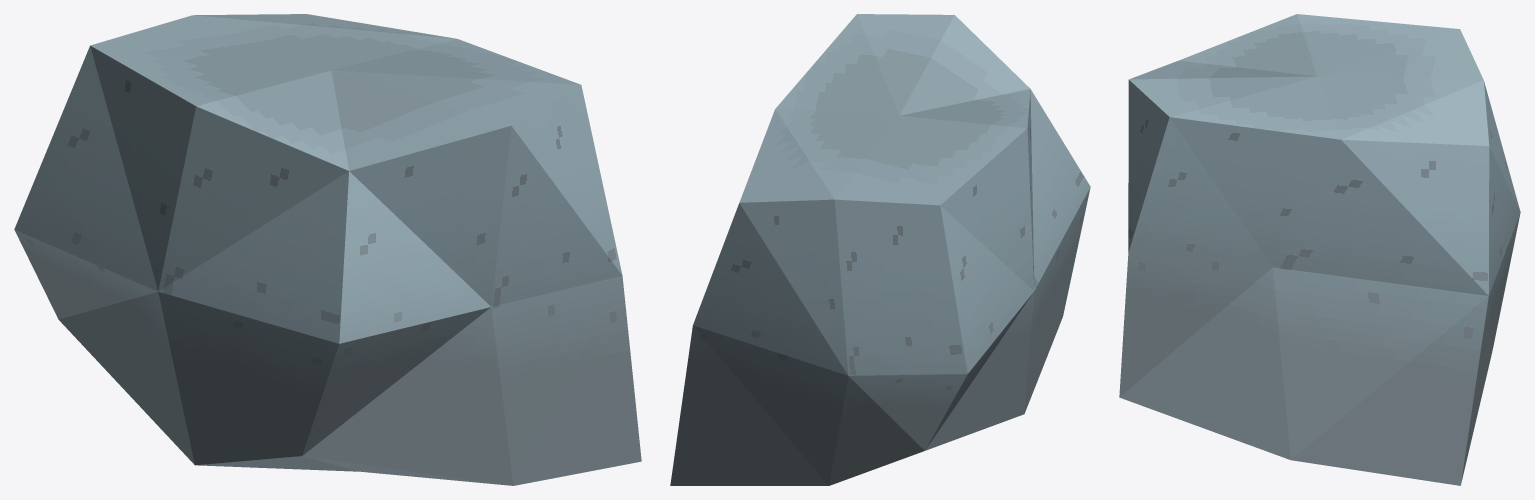
Rendered from roca_4.gltf.
3 renders of one model, left to right at view 1: azimuth 30°, elevation 25°; view 2: azimuth 150°, elevation 25°; view 3: azimuth 270°, elevation 25°, orthographic. The views are drawn at different scales.
Visible parts, largest first — view 1: roca4; view 2: roca4; view 3: roca4.
Part boxes in pixels (x1,y1,x2,y2): roca4: (14, 14, 641, 485); roca4: (670, 14, 1090, 485); roca4: (1119, 14, 1520, 485).
Bounding box in the file's own units: 2.43 × 2.61 × 2.68.
Materials: 1 (1 with a texture image).
